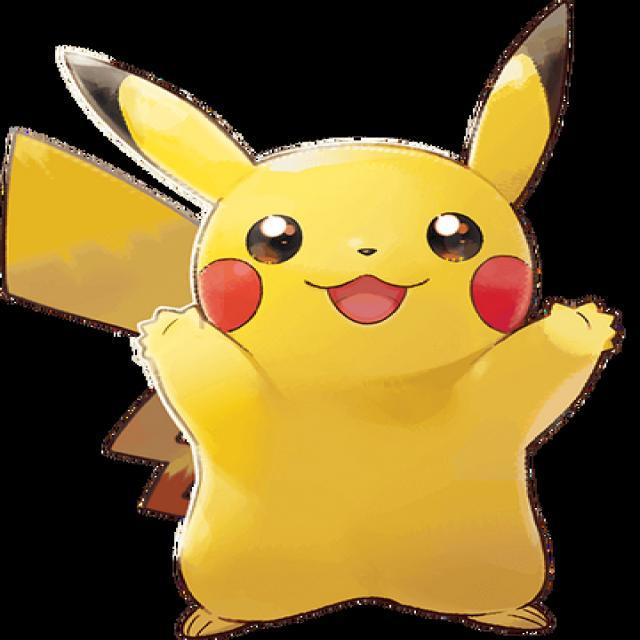Pikachu: (18, 26, 639, 640)
